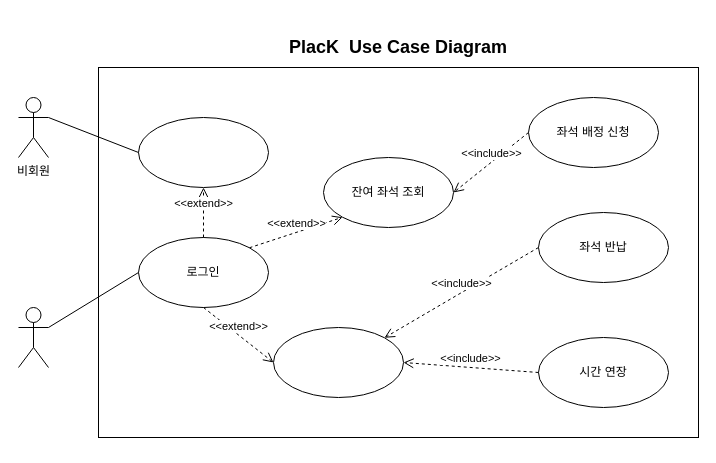
The diagram is 716 pixels wide and 463 high, and some of its shapes have lost their labels. Here are the shapes that lost their labels. From the top down, the centre of each, then its label:
At point (203, 152): "회원가입".
At point (33, 337): "회원".
At point (338, 362): "배정 좌석 확인".
